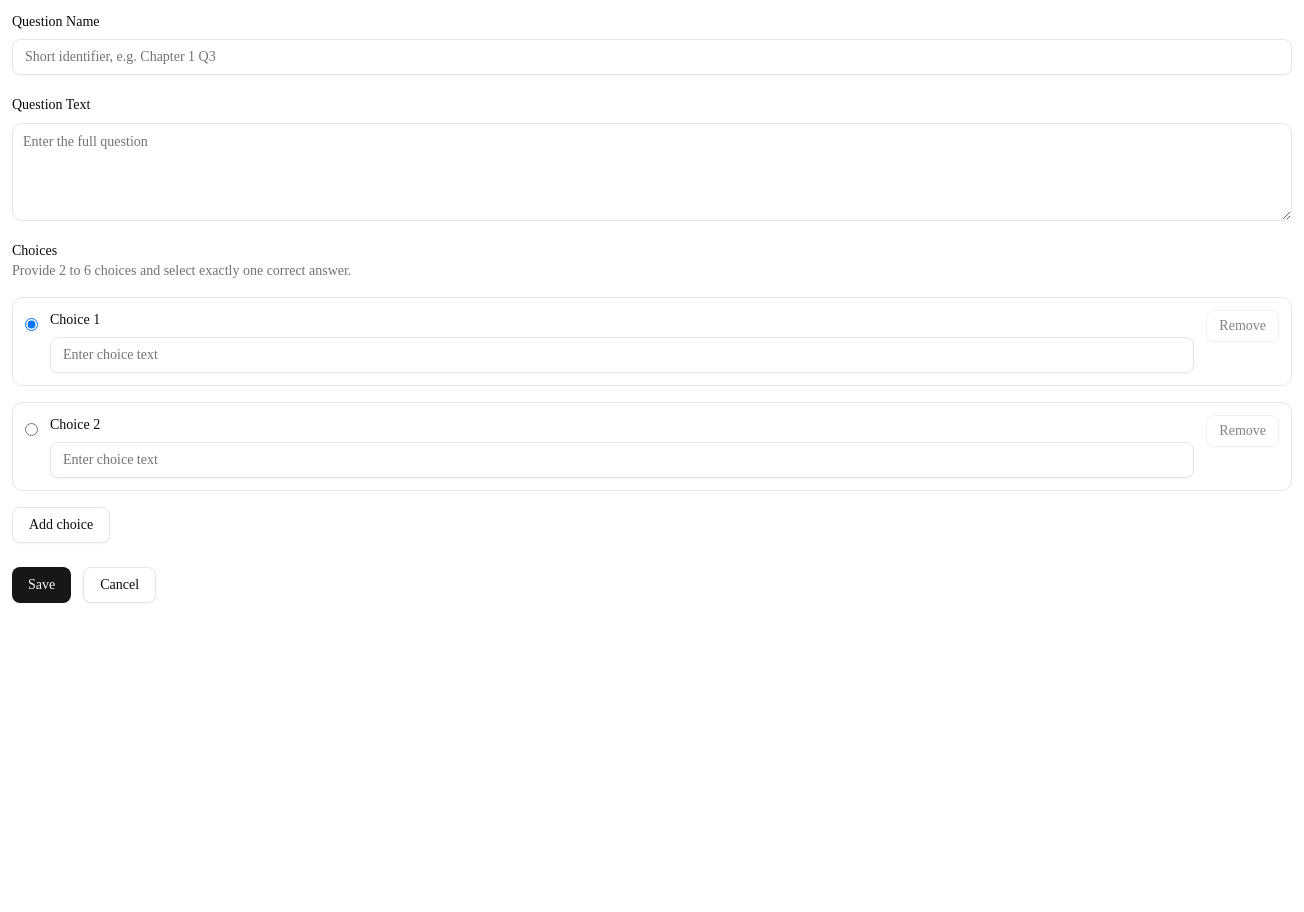
Phase 3: MCQ form › shows validation errors for empty name
Click the button "Save" at (42, 585), box top-left (12, 567), bottom-right (71, 603)
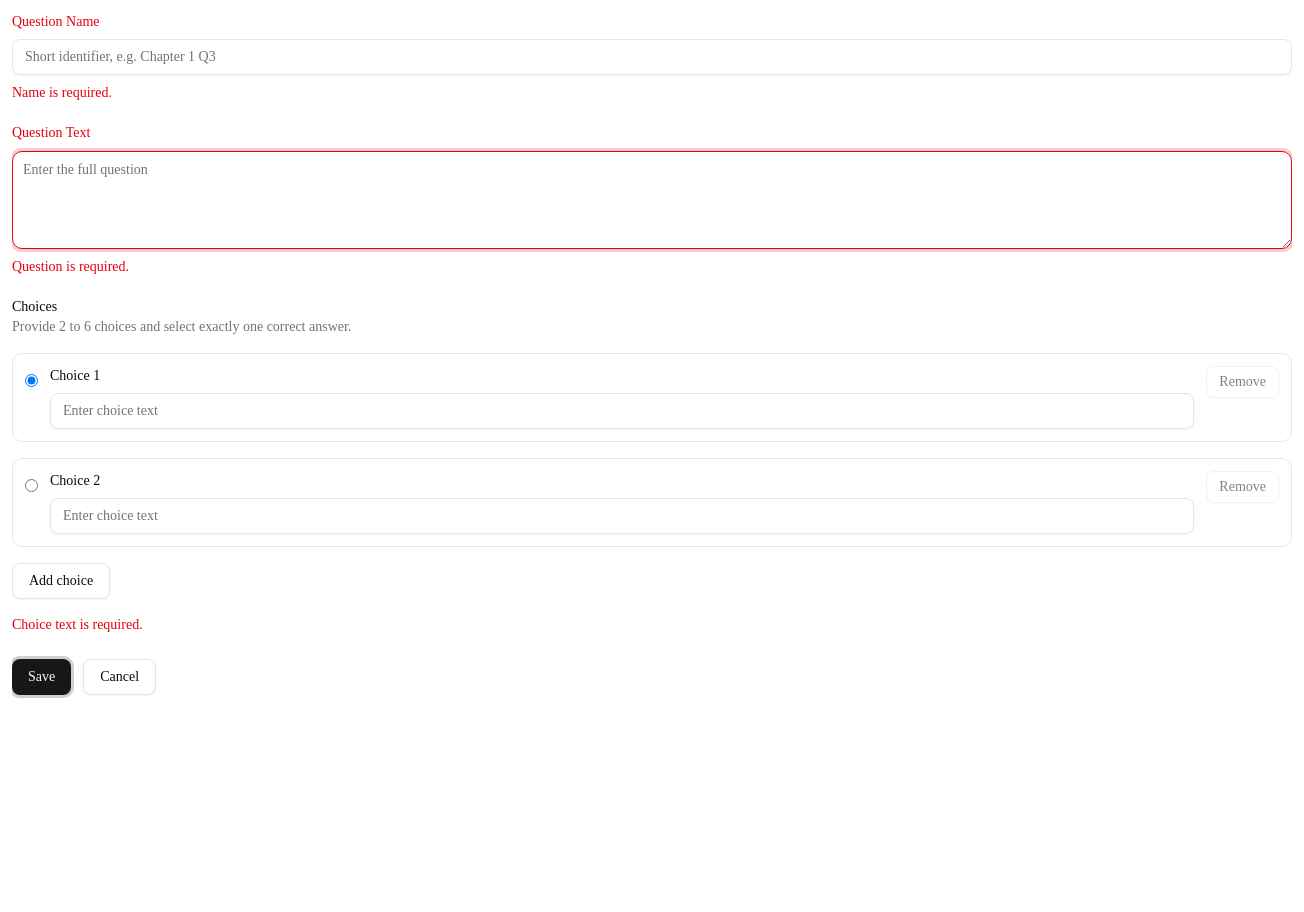
Result: the text "Name is required." is shown at top-left (12, 85), bottom-right (112, 100)
